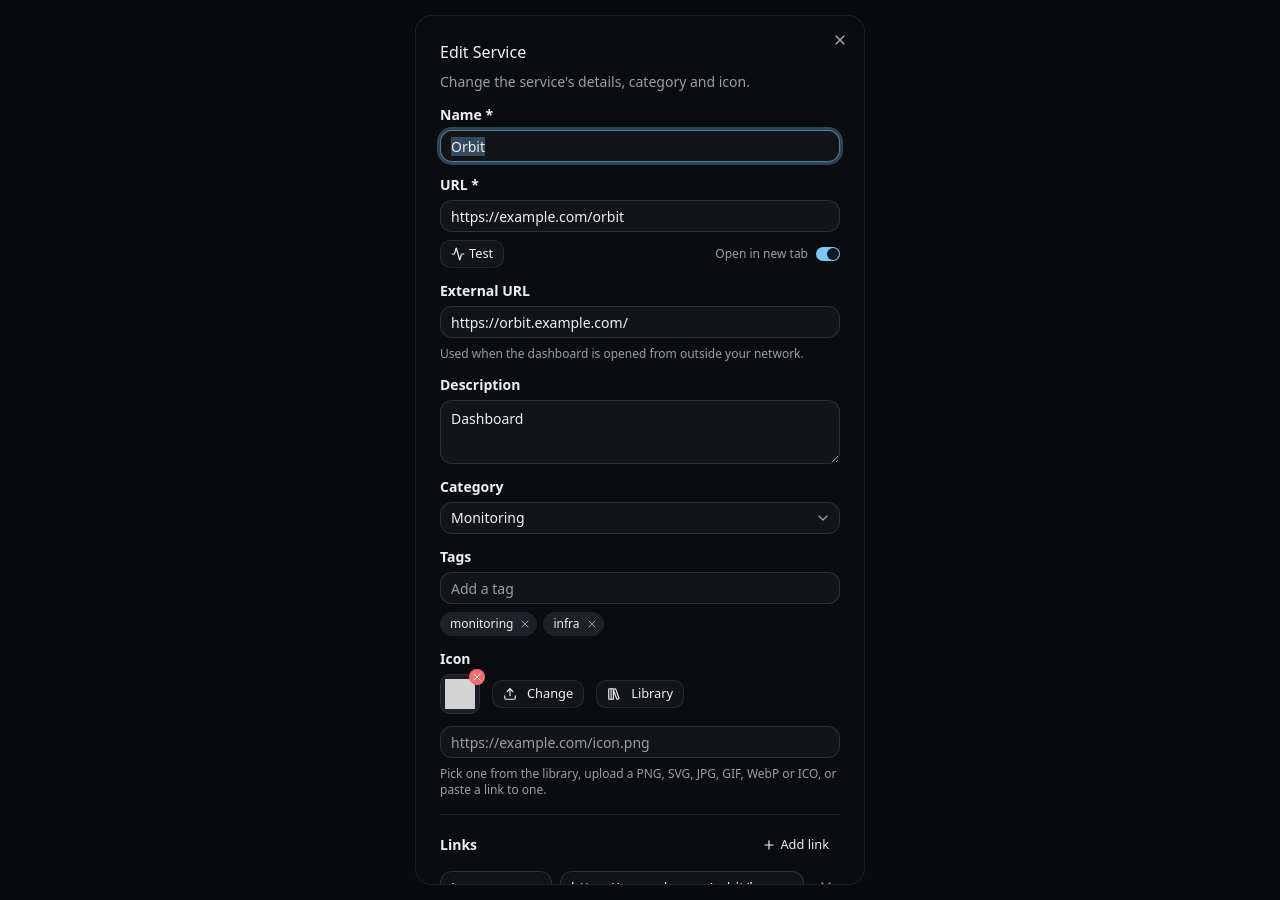
ServiceDialog external URL, tags and links › explains a link or external URL that can't be saved
Replace the text in the field labelled "External URL" with "ftp://x" at (640, 322), box [440, 306, 840, 338]
(page scrolled)
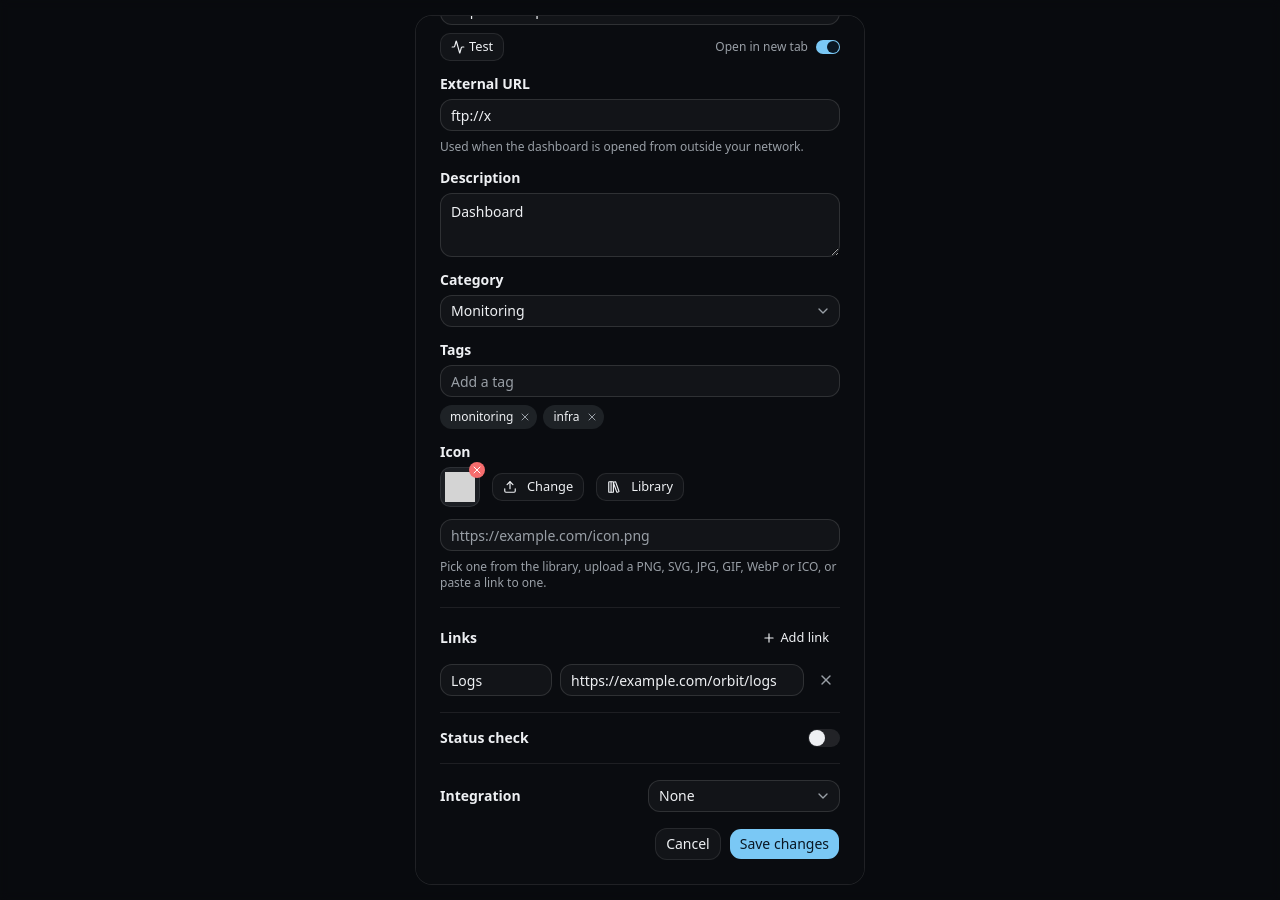
Click the button "Save changes".
click(784, 844)  # box [729, 828, 840, 860]
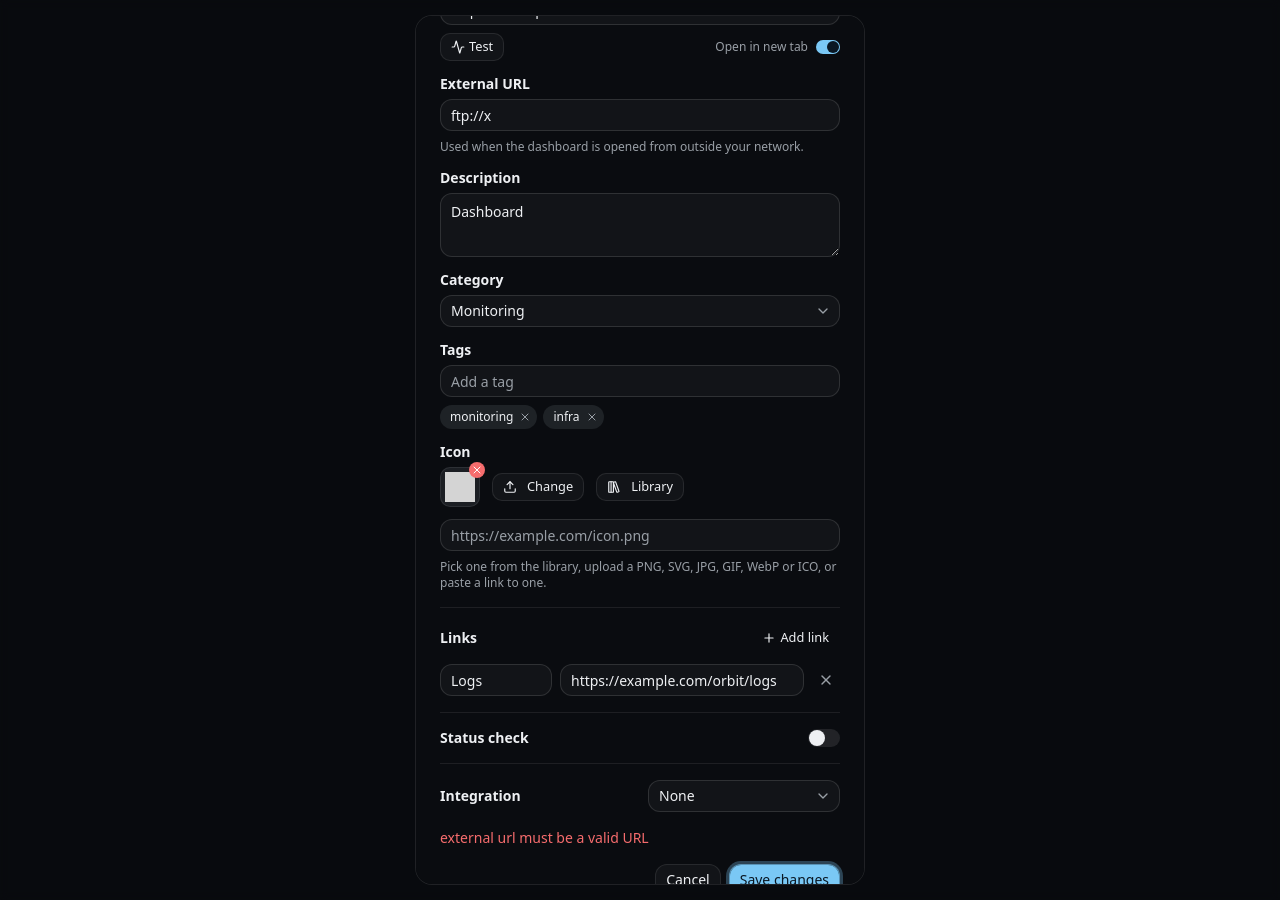
Now the text "external url must be a valid URL" is shown, box [440, 828, 649, 847]
Clear the field labelled "External URL" at (640, 115), box [440, 99, 840, 131]
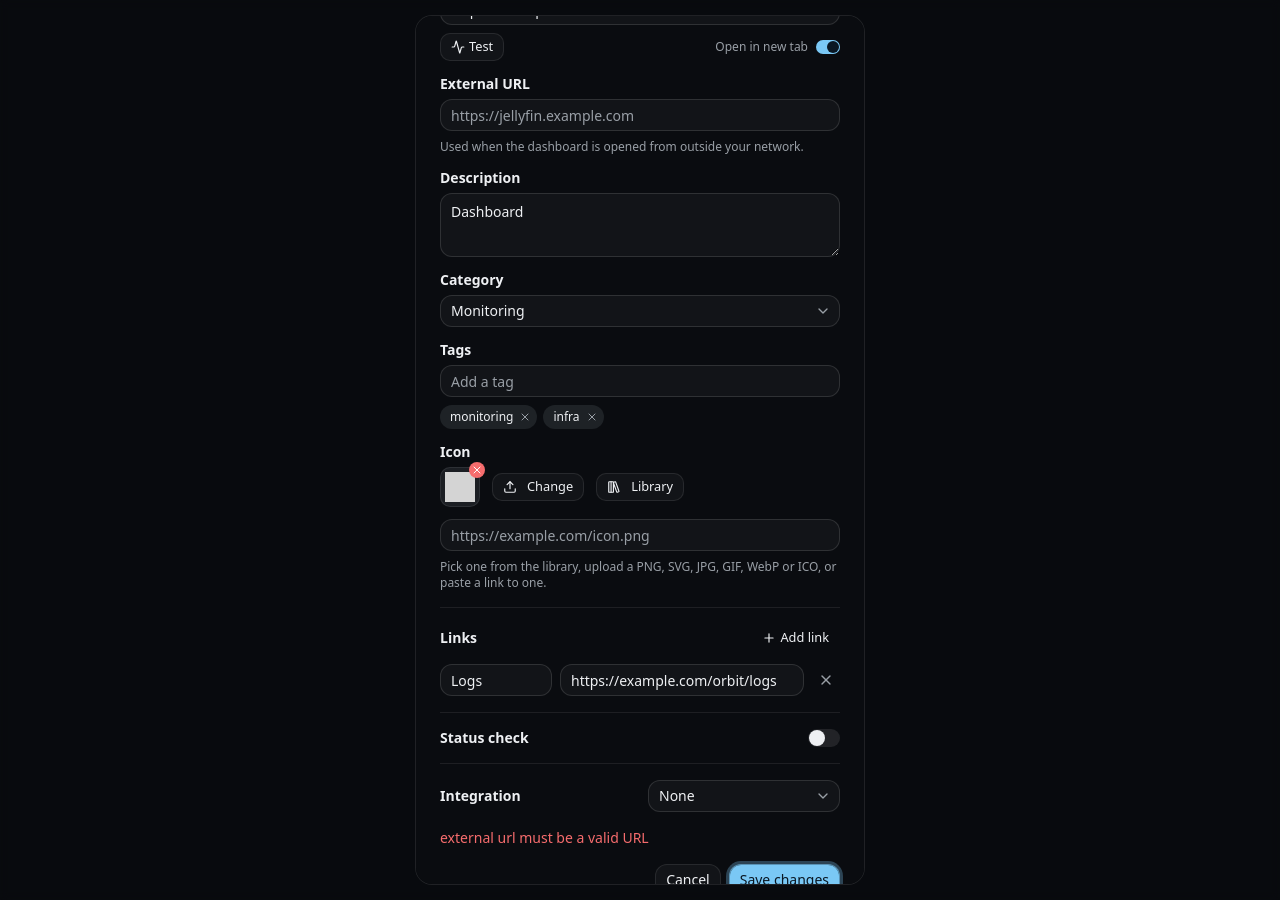
Clear the field named "Label for link 1" at (496, 680), box [440, 664, 552, 696]
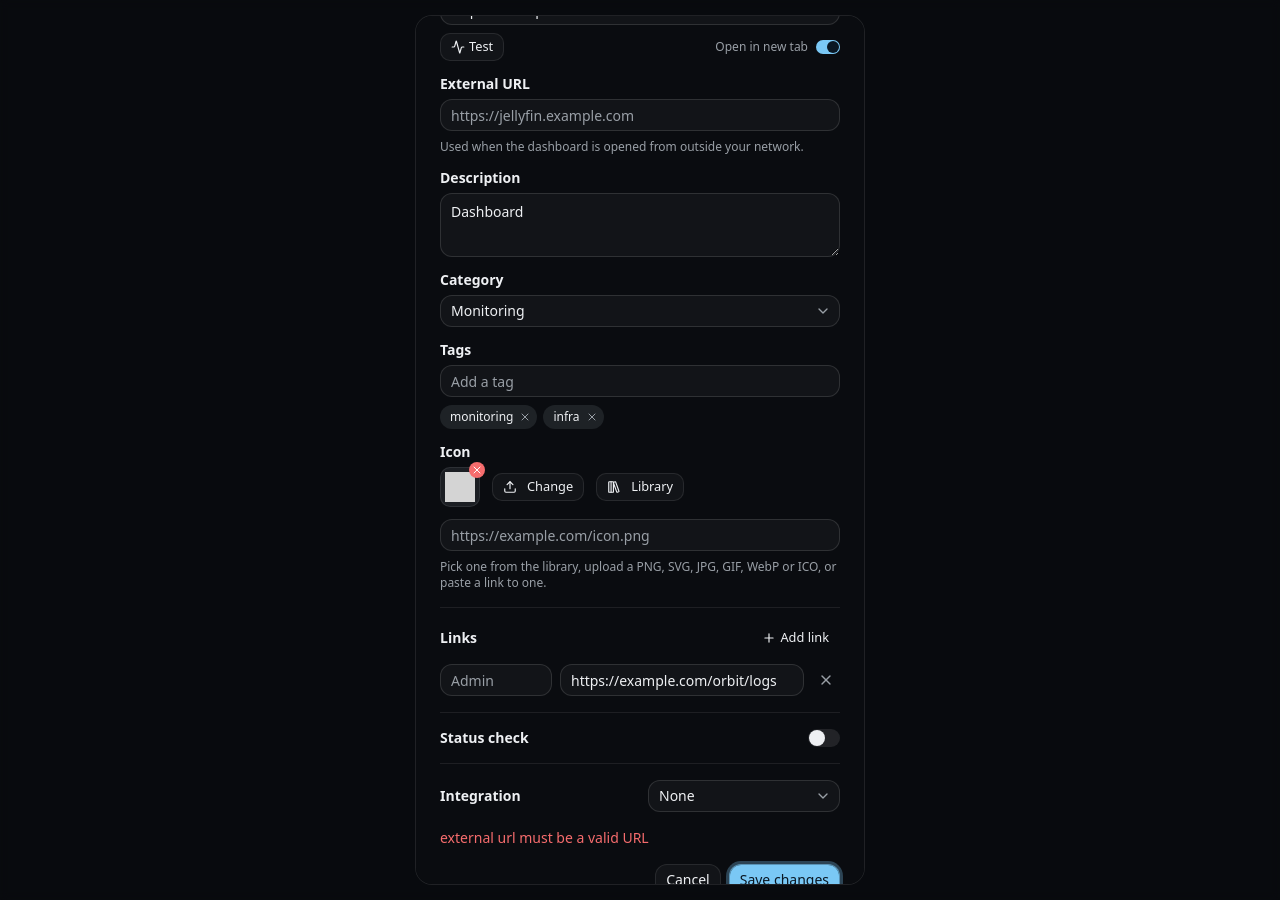
Click the button "Save changes".
click(784, 880)  # box [729, 864, 840, 896]
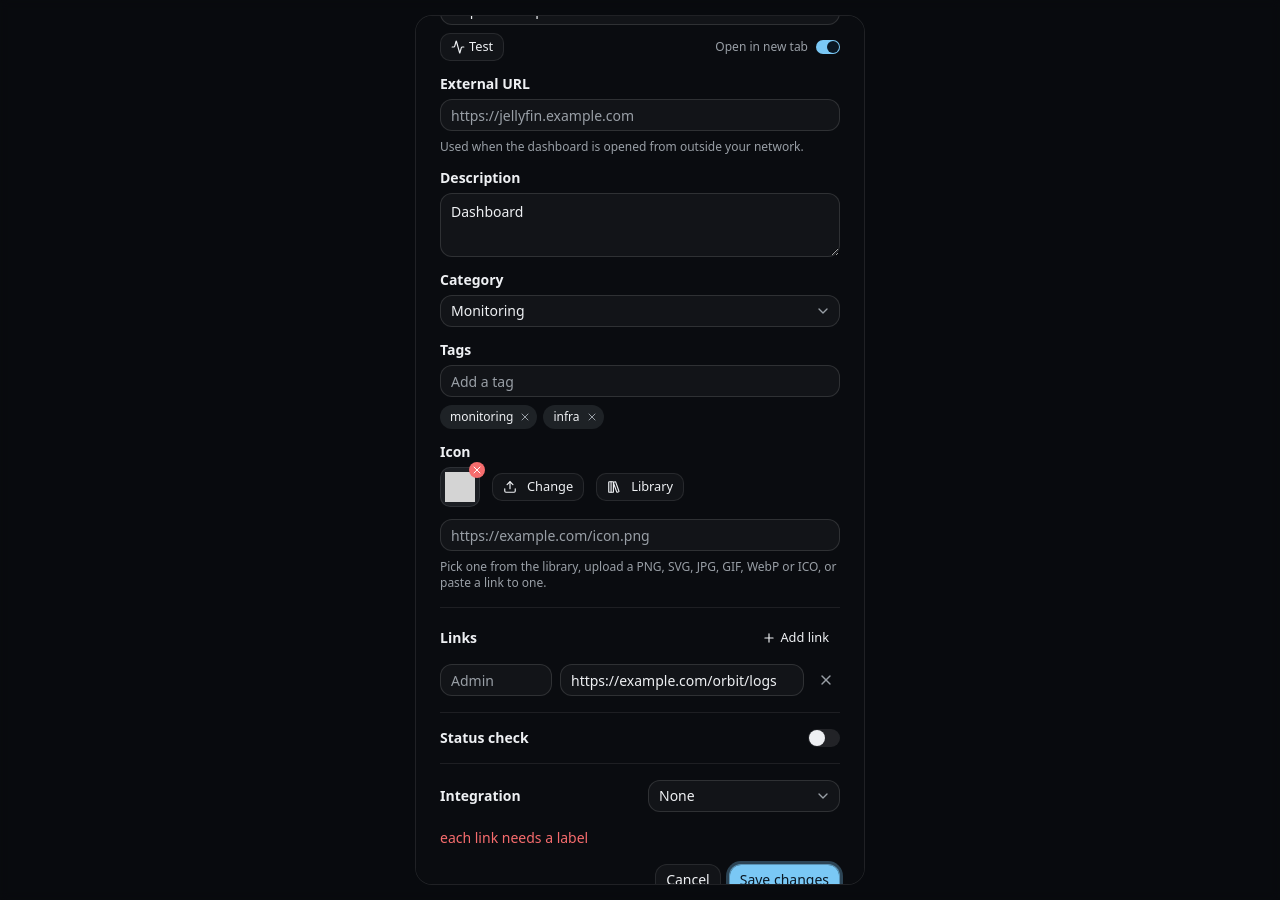
Now the text "each link needs a label" is shown, box [440, 828, 588, 847]
